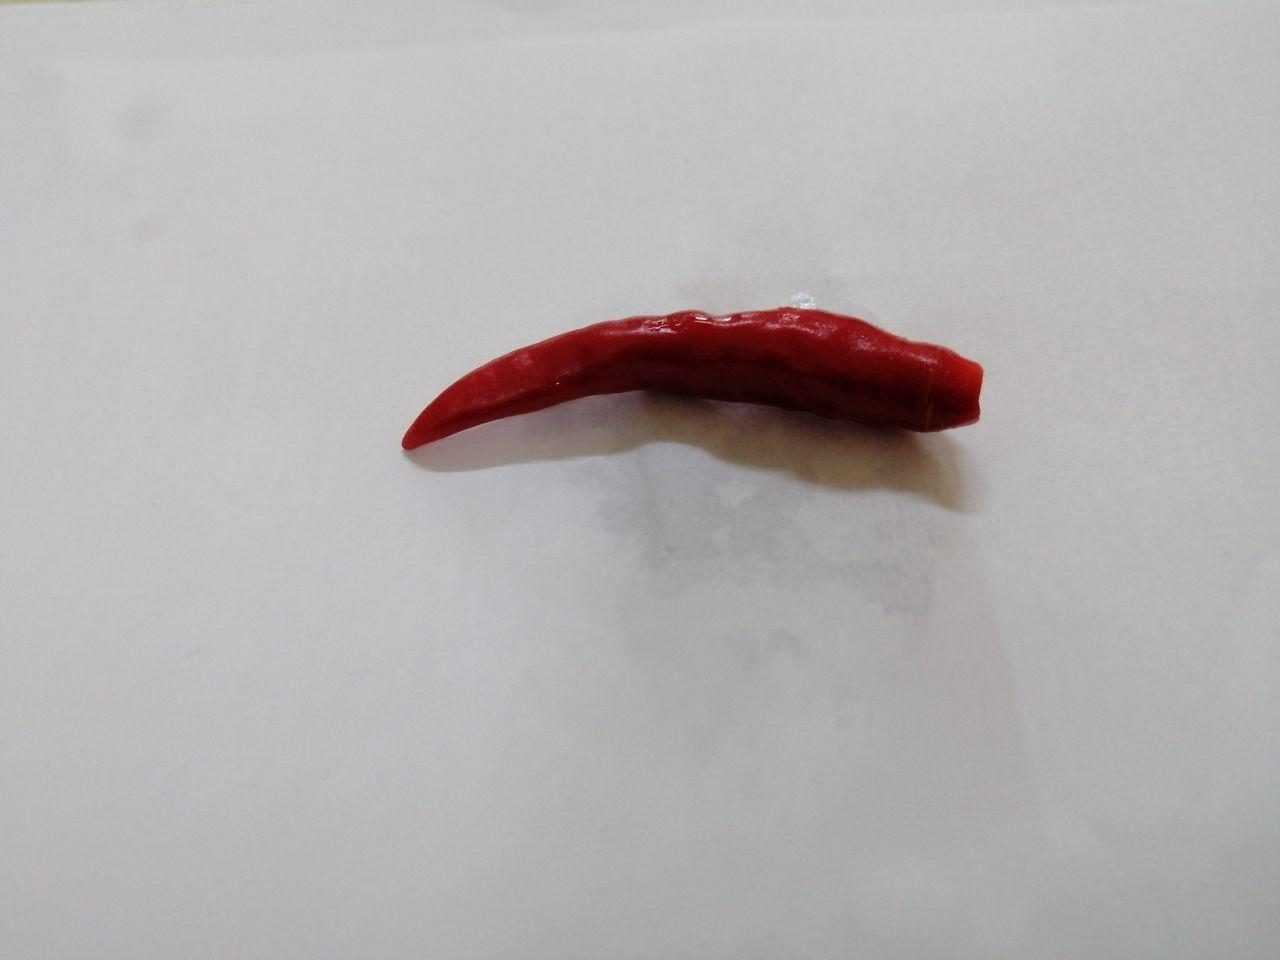lada merah: (385, 272, 1008, 515)
